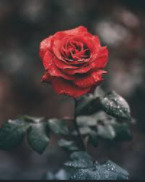RedRose: (34, 25, 108, 95)
